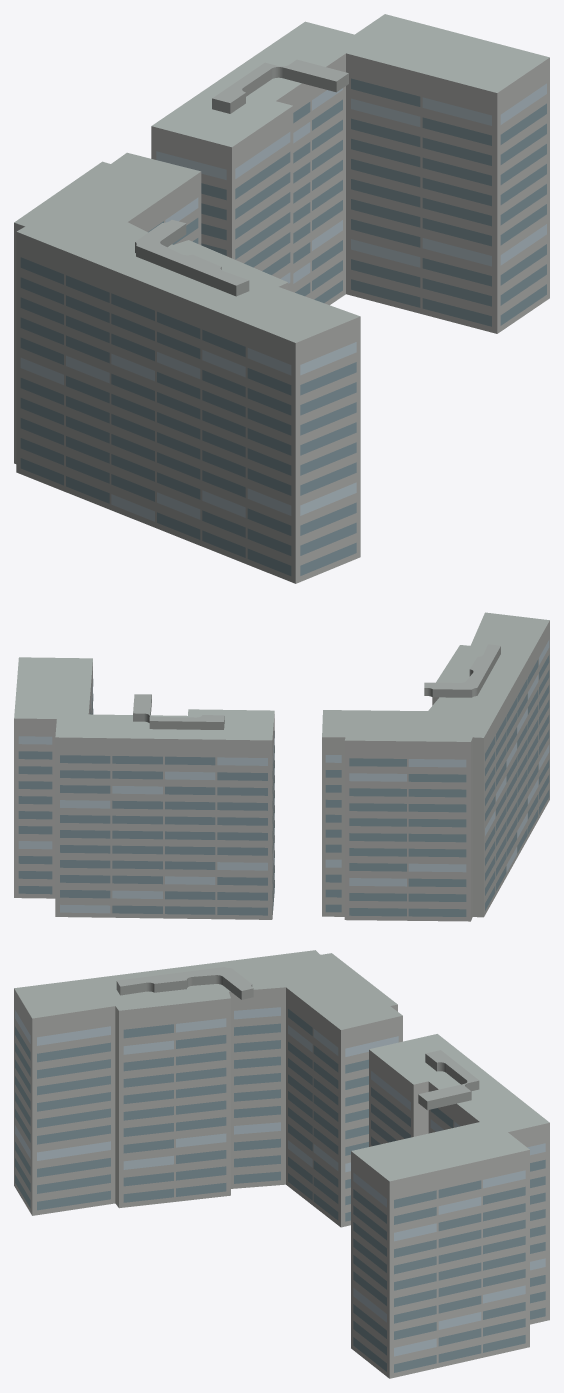
Rendered from apt-a15005302.glb.
The picture shows the model from 3 angles, top to bottom: view 1: azimuth 30°, elevation 25°; view 2: azimuth 150°, elevation 25°; view 3: azimuth 270°, elevation 25°; orthographic projection. The views are drawn at different scales.
Visible parts, largest first — view 1: apt-a15005302; view 2: apt-a15005302; view 3: apt-a15005302.
Boxes of the visible parts, left/top/right/bottom form: apt-a15005302: left=14, top=14, right=549, bottom=583; apt-a15005302: left=14, top=612, right=549, bottom=921; apt-a15005302: left=14, top=950, right=549, bottom=1378.
Size of the model in its own units: 92.02 by 38.25 by 90.08.
